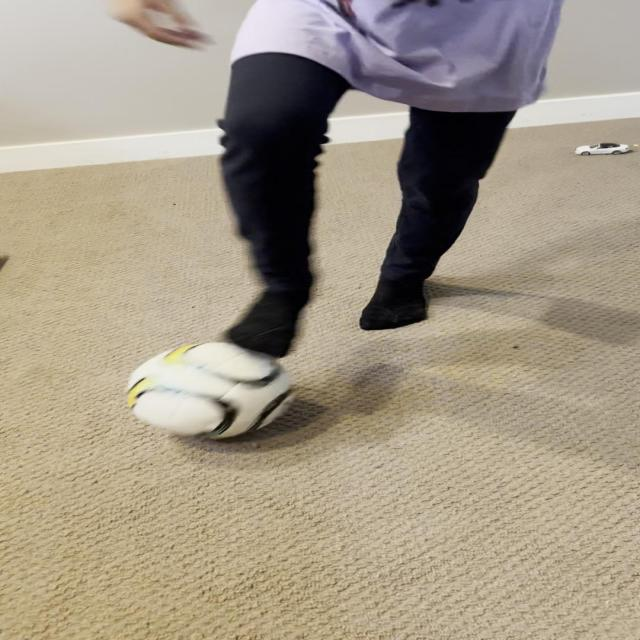Soccer Ball: (126, 341, 295, 439)
